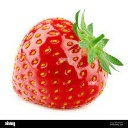strawberry: (10, 16, 119, 109)
